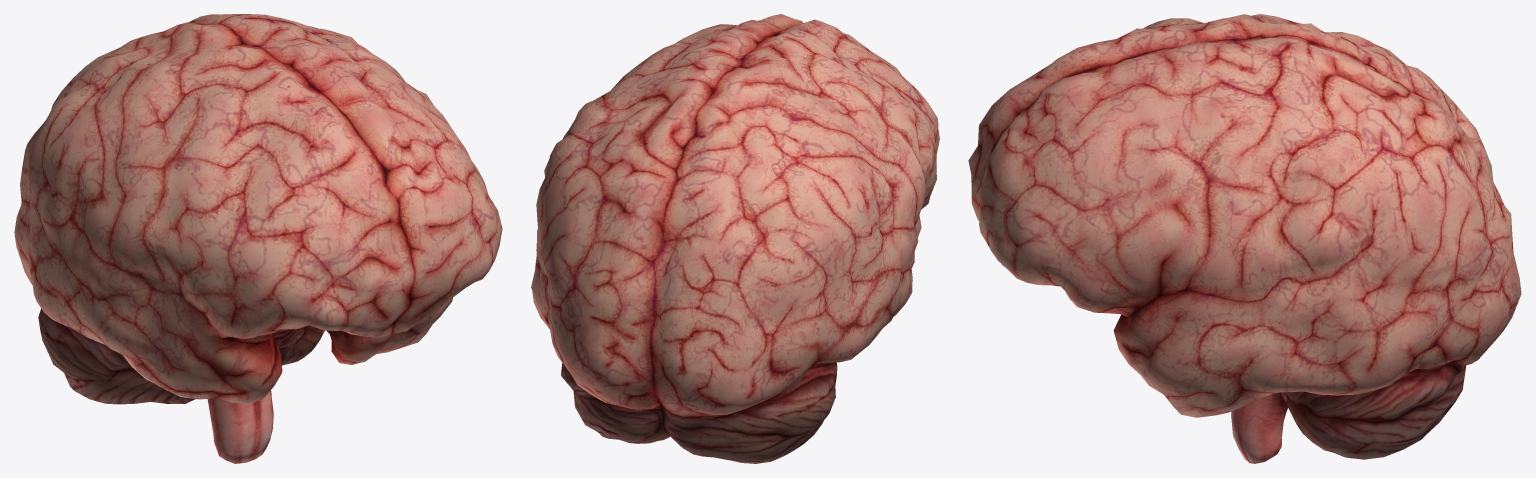
The model's file is 4_brain.fbx.
The picture shows the model from 3 angles, left to right: view 1: azimuth 30°, elevation 25°; view 2: azimuth 150°, elevation 25°; view 3: azimuth 270°, elevation 25°; orthographic projection. The views are drawn at different scales.
Visible parts, largest first — view 1: node_id52; view 2: node_id52; view 3: node_id52.
Boxes of the visible parts, x1,y1,x2,y2 form: node_id52: (14,14,502,463); node_id52: (531,14,939,463); node_id52: (968,14,1521,463).
Bounding box in the file's own units: 0.1198 × 0.1345 × 0.1584.
Materials: 1 (1 with a texture image).
